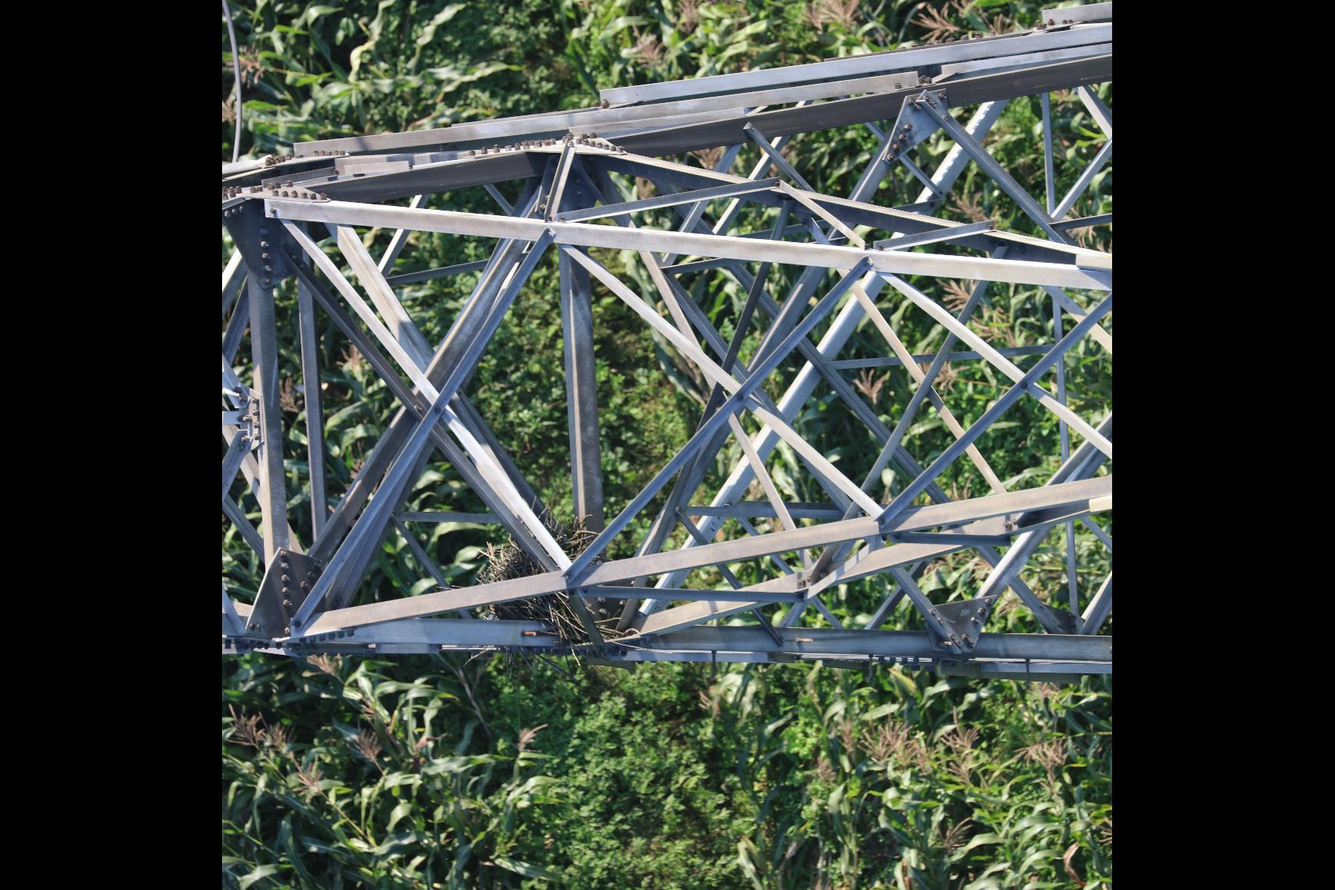nest: (474, 511, 623, 646)
